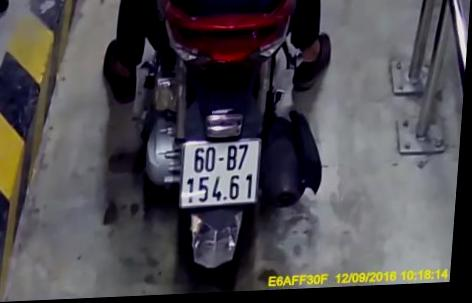License_Plate: (170, 131, 265, 214)
